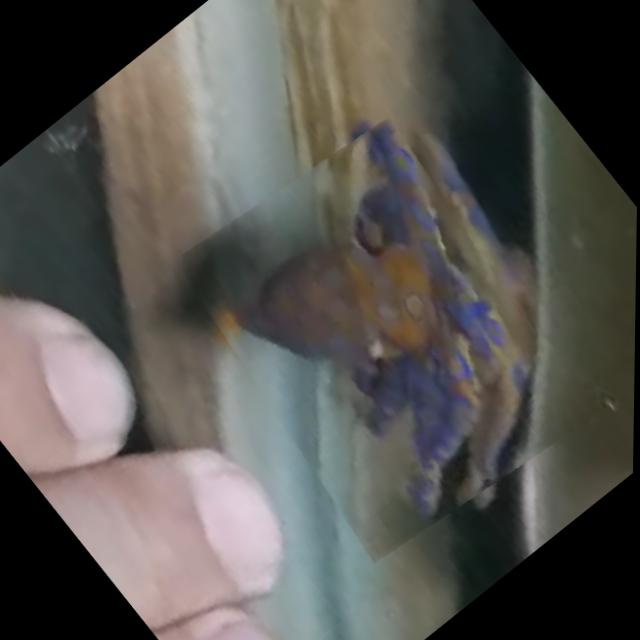blue_ringed_octopus: (155, 108, 608, 571)
